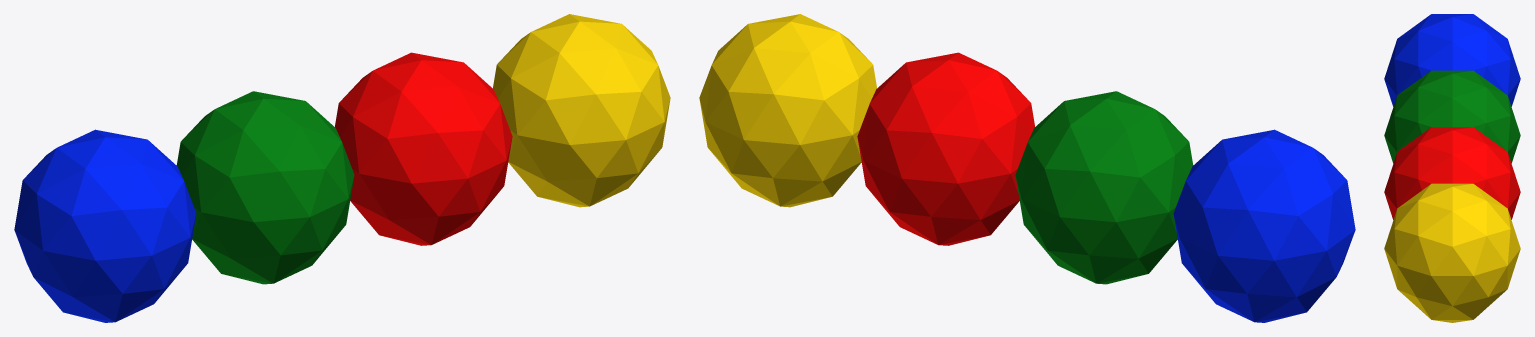
File: balloons.fbx
3 renders of one model, left to right at view 1: azimuth 30°, elevation 25°; view 2: azimuth 150°, elevation 25°; view 3: azimuth 270°, elevation 25°, orthographic. The views are drawn at different scales.
Parts seen in each view (by area): view 1: Icosphere.003, Icosphere.002, Icosphere, Icosphere.001; view 2: Icosphere.003, Icosphere.002, Icosphere, Icosphere.001; view 3: Icosphere, Icosphere.002, Icosphere.003, Icosphere.001.
Part boxes in pixels (x1,y1,x2,y2): Icosphere.003: (14,129,196,322); Icosphere.002: (176,91,354,284); Icosphere: (493,14,670,207); Icosphere.001: (335,52,512,245); Icosphere.003: (1173,129,1355,322); Icosphere.002: (1015,91,1193,284); Icosphere: (699,14,876,207); Icosphere.001: (857,52,1034,245); Icosphere: (1384,183,1520,322); Icosphere.002: (1384,70,1520,163); Icosphere.003: (1384,14,1520,106); Icosphere.001: (1384,127,1520,219).
Bounding box in the file's own units: 397 × 112 × 102.
Materials: 1 (1 with a texture image).
